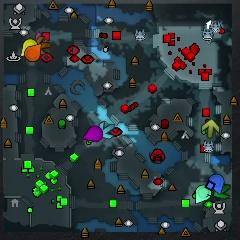p1: (209, 174, 224, 193)
p2: (195, 184, 211, 204)
p3: (83, 125, 103, 141)
p4: (21, 39, 37, 57)
p5: (24, 44, 42, 61)
x1: (35, 32, 41, 39)
x2: (202, 120, 219, 137)
x3: (99, 122, 114, 139)
x4: (214, 183, 231, 200)
x5: (36, 37, 52, 55)
